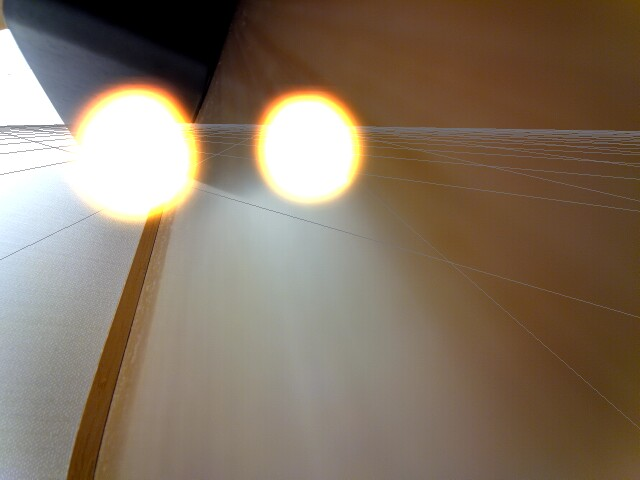firebig: (51, 76, 205, 225)
